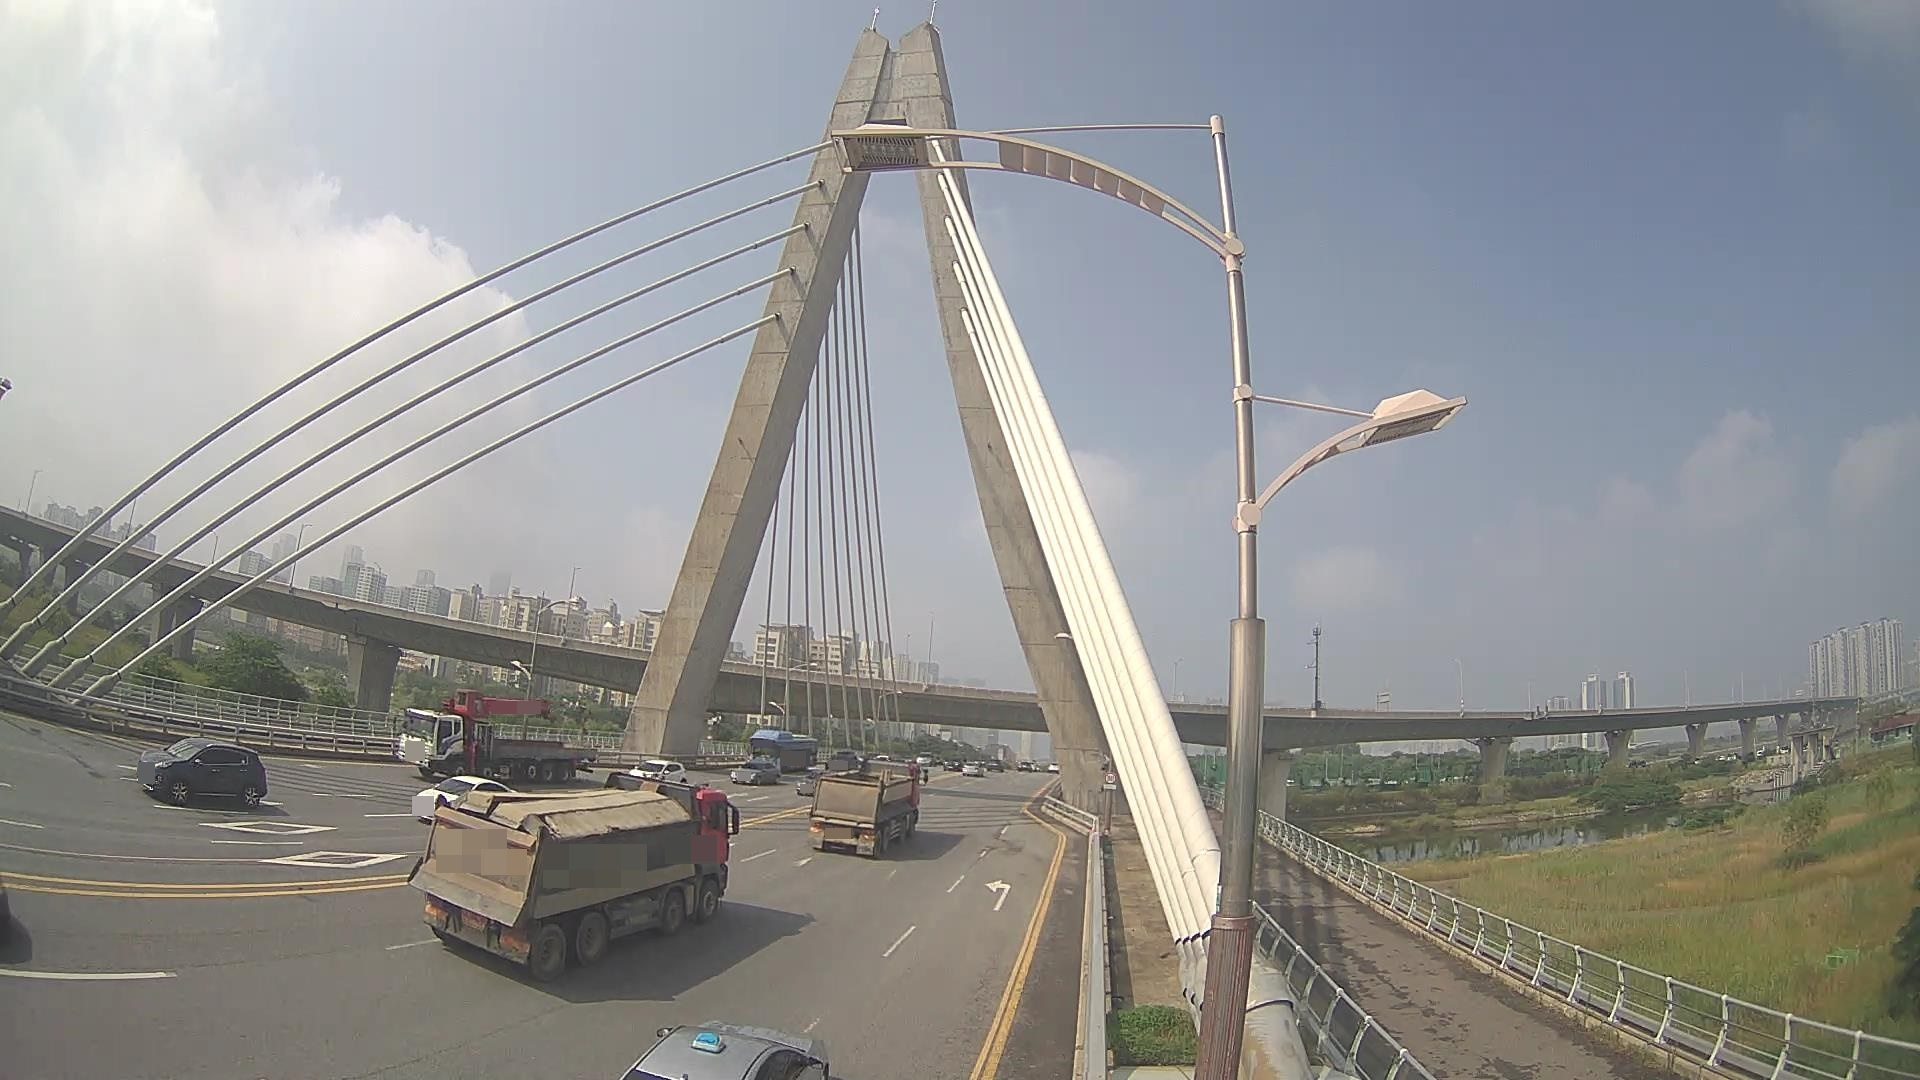정상차량: (406, 769, 742, 984)
